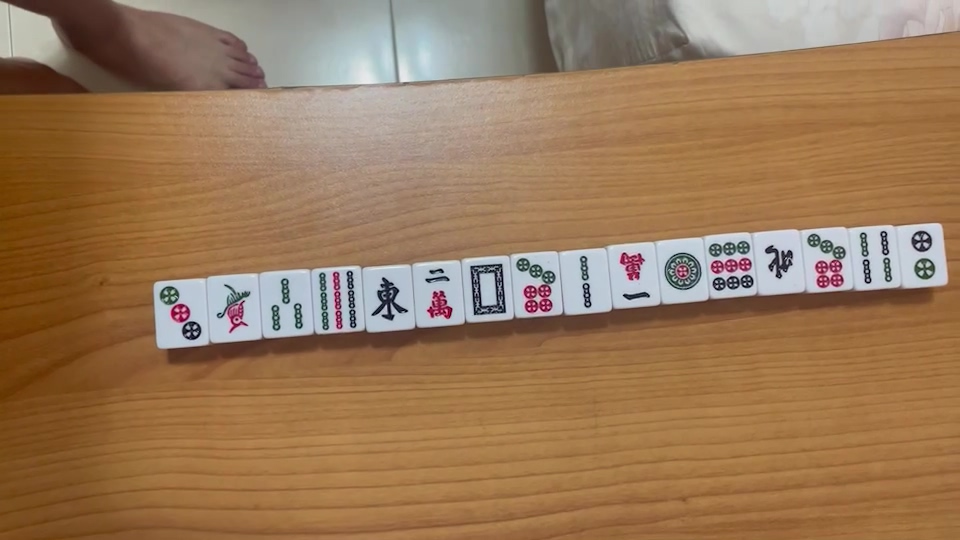b-1: (212, 282, 253, 338)
b-2: (567, 253, 604, 309)
b-3: (266, 276, 306, 333)
b-4: (858, 228, 894, 285)
b-9: (315, 268, 360, 333)
c-1: (615, 248, 654, 302)
c-2: (420, 263, 456, 321)
d-1: (663, 251, 703, 292)
d-2: (907, 229, 939, 282)
d-3: (158, 284, 202, 343)
d-7: (805, 233, 848, 290), (515, 256, 557, 313)
d-9: (708, 237, 754, 292)
honors-east: (367, 274, 412, 324)
honors-north: (762, 241, 794, 284)
honors-white: (466, 261, 508, 318)
